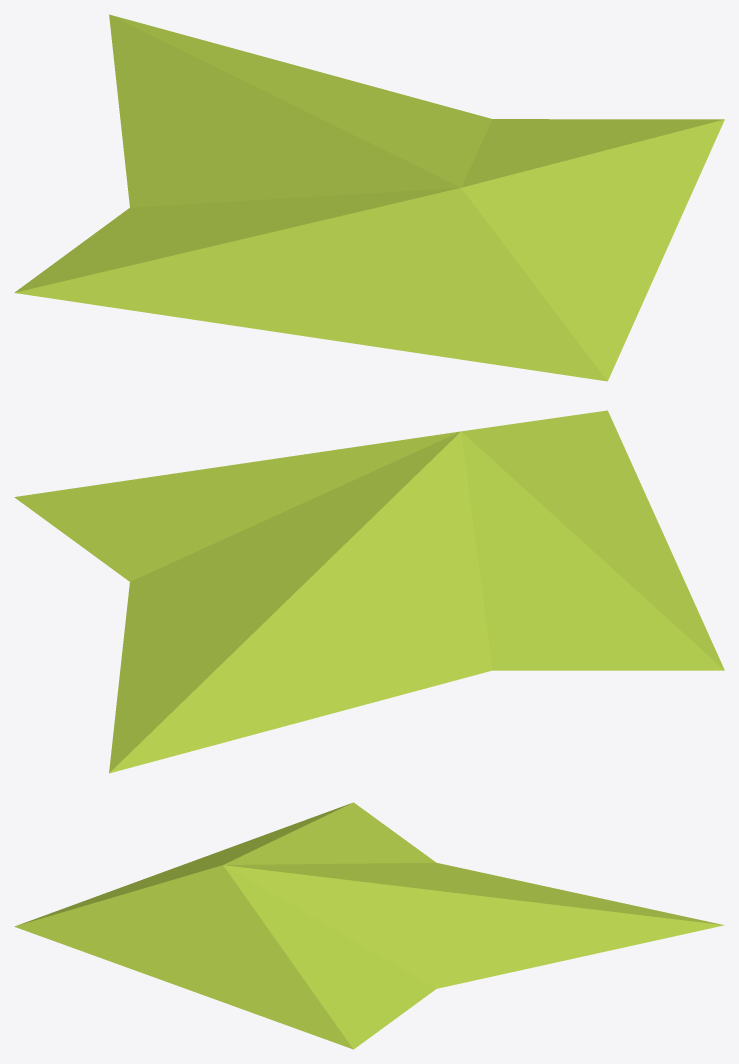
File: nature-leaf-triangle.glb
3 renders of one model, top to bottom at view 1: azimuth 30°, elevation 25°; view 2: azimuth 150°, elevation 25°; view 3: azimuth 270°, elevation 25°, orthographic. The views are drawn at different scales.
Parts seen in each view (by area): view 1: leaf-triangle; view 2: leaf-triangle; view 3: leaf-triangle.
Boxes of the visible parts, x1=… form: leaf-triangle: x1=14, y1=14, x2=724, y2=381; leaf-triangle: x1=14, y1=410, x2=724, y2=773; leaf-triangle: x1=14, y1=802, x2=724, y2=1049.
Bounding box in the file's own units: 0.6012 × 0.1386 × 0.7304.
